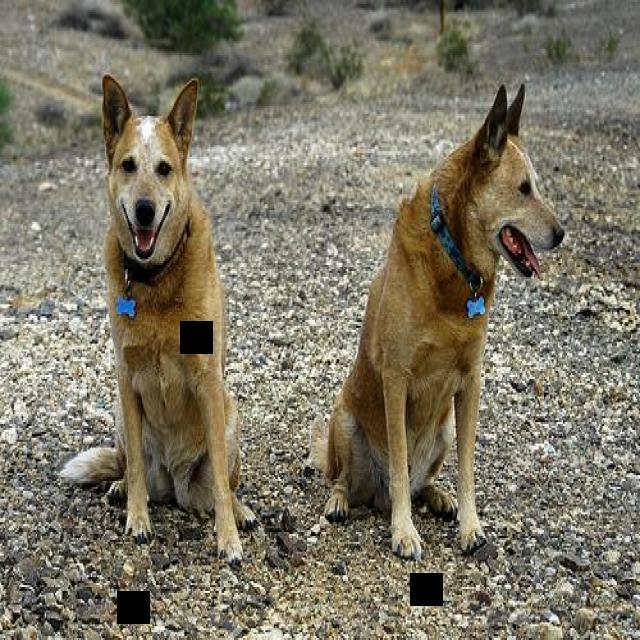adult_dog: (302, 83, 567, 566), (55, 66, 259, 568)
